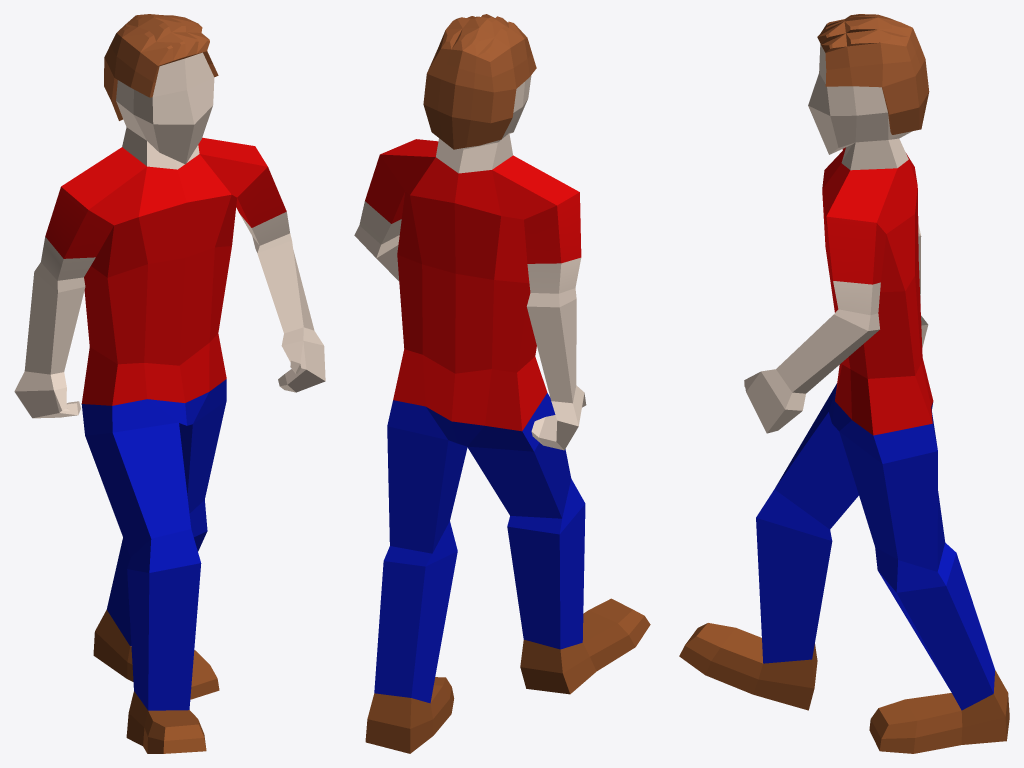
Rendered from Human_walking_20.fbx.
3 views of the same model, side by side, from view 1: azimuth 30°, elevation 25°; view 2: azimuth 150°, elevation 25°; view 3: azimuth 270°, elevation 25° (orthographic). The views are drawn at different scales.
Visible parts, largest first — view 1: Person; view 2: Person; view 3: Person.
Boxes of the visible parts, <box> form: Person: <box>14,14,325,753</box>; Person: <box>354,14,650,753</box>; Person: <box>679,14,1009,753</box>.
Bounding box in the file's own units: 0.5942 × 1.57 × 0.6679.
